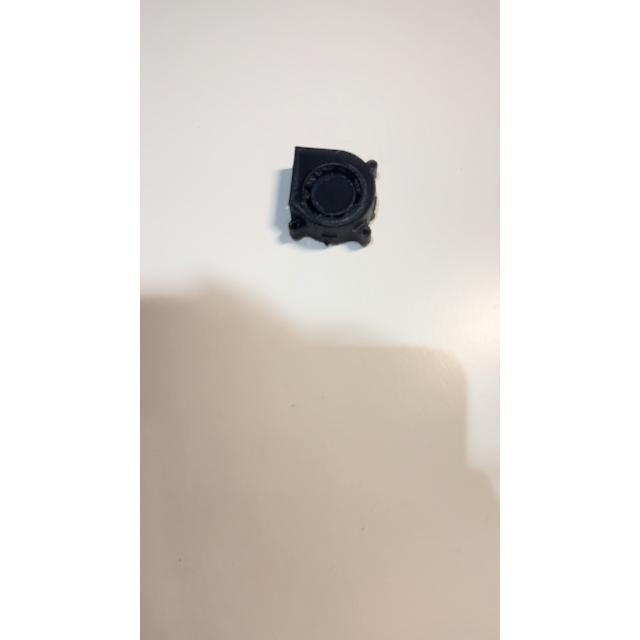Pieza_3: (278, 136, 390, 260)
